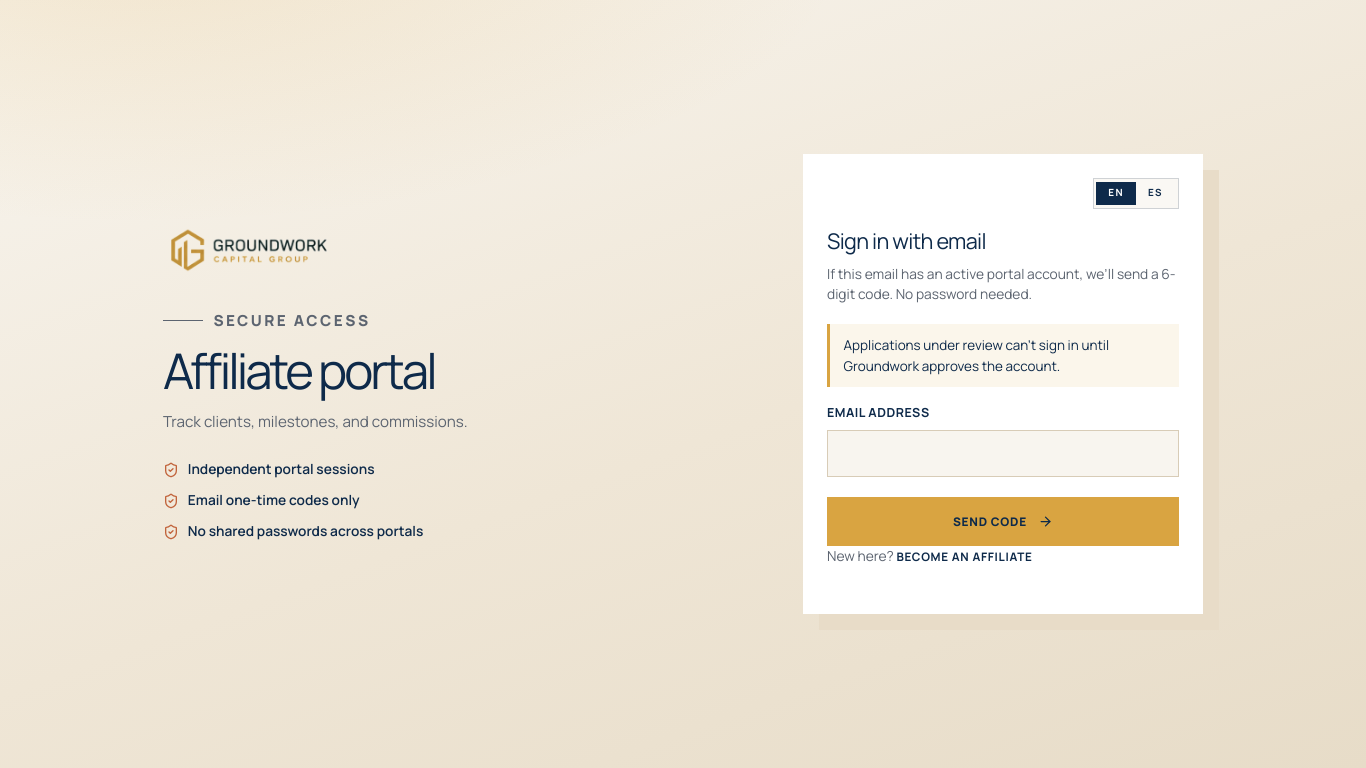
Test: PortalLoginPage › keeps verify disabled until six digits, then rejects a wrong code
Type "pat@example.com" into the field labelled "Email address" at (1003, 453), box [827, 430, 1179, 477]
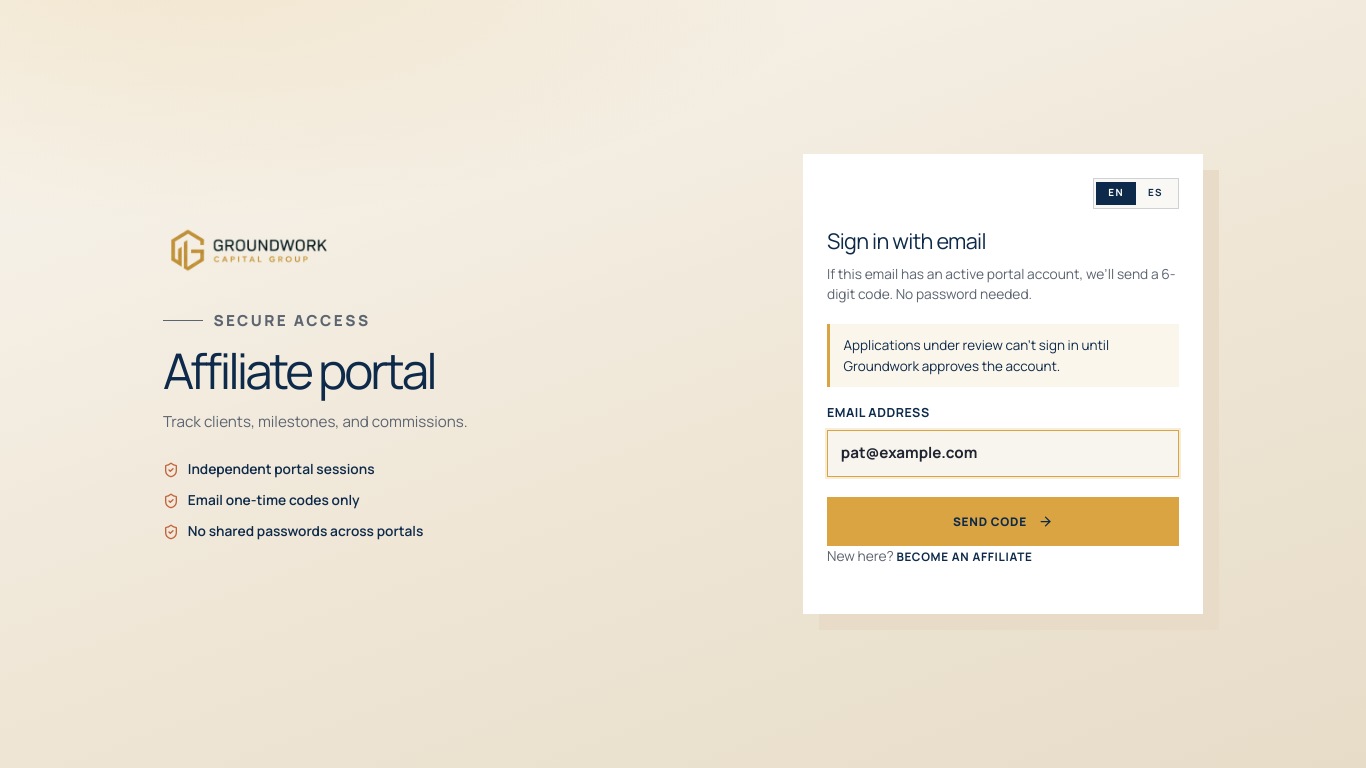
Click the button "Send code" at (1003, 522), box [827, 497, 1179, 546]
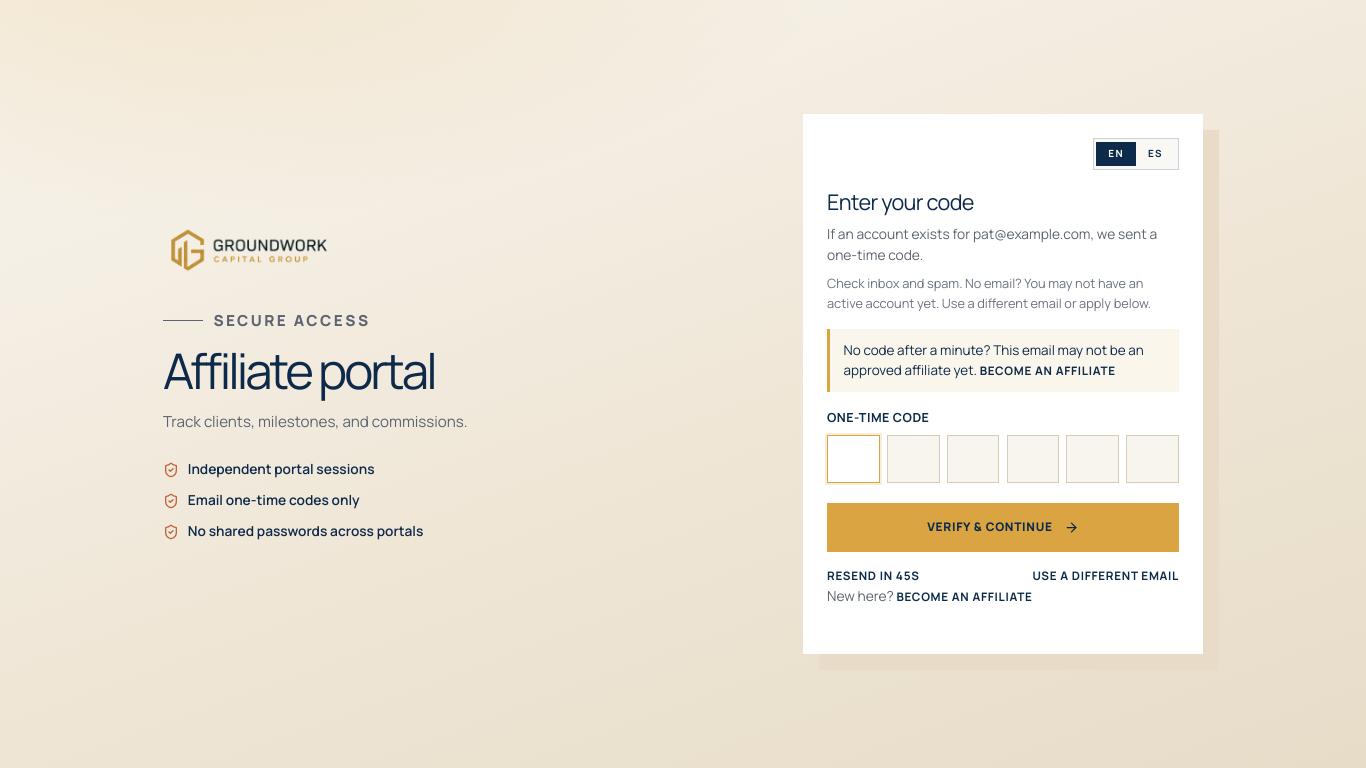
Expected: the heading "Enter your code" is shown, [827, 187, 974, 216]
Type "12ab" into the field named "Digit 1 of 6" at (853, 459), box [827, 435, 880, 483]
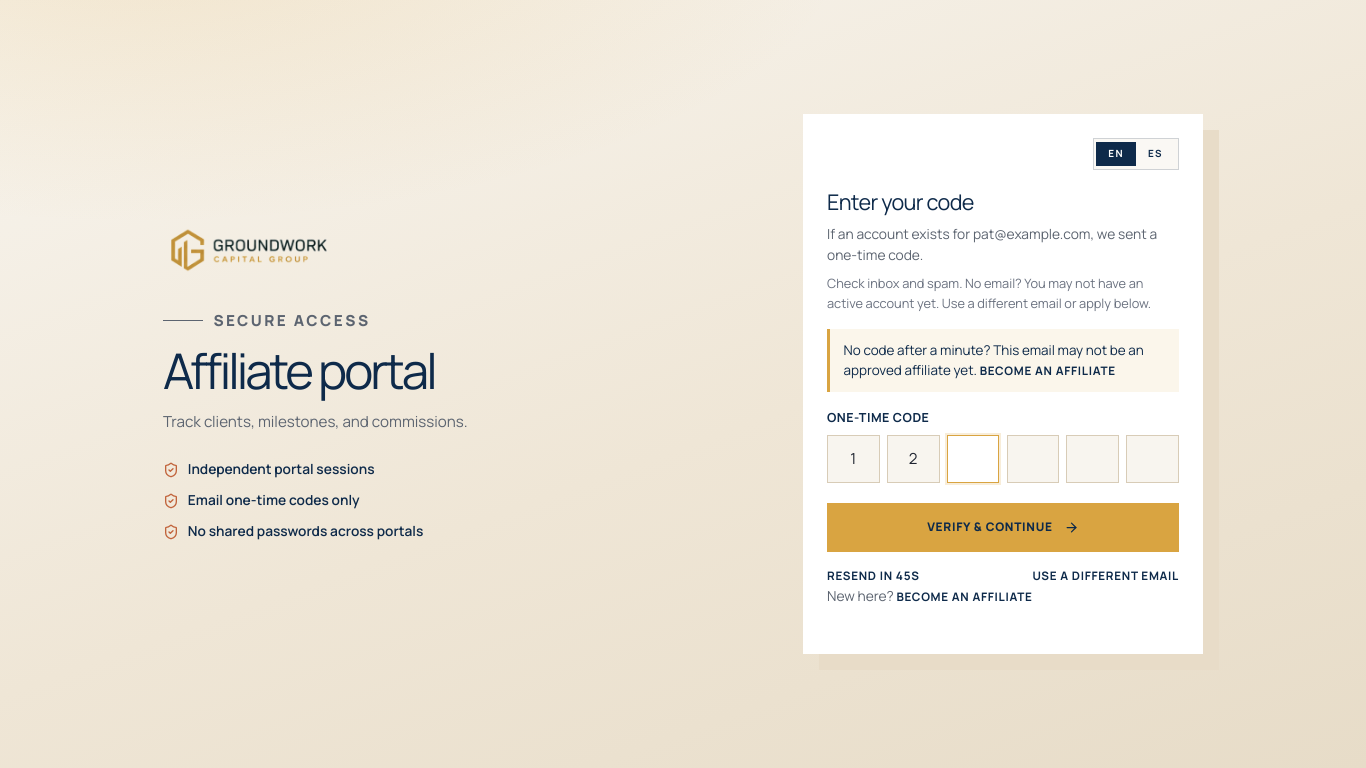
Expected: the button "Verify & continue" is disabled, [827, 502, 1179, 552]
Clear the field named "Digit 1 of 6" at (853, 459), box [827, 435, 880, 483]
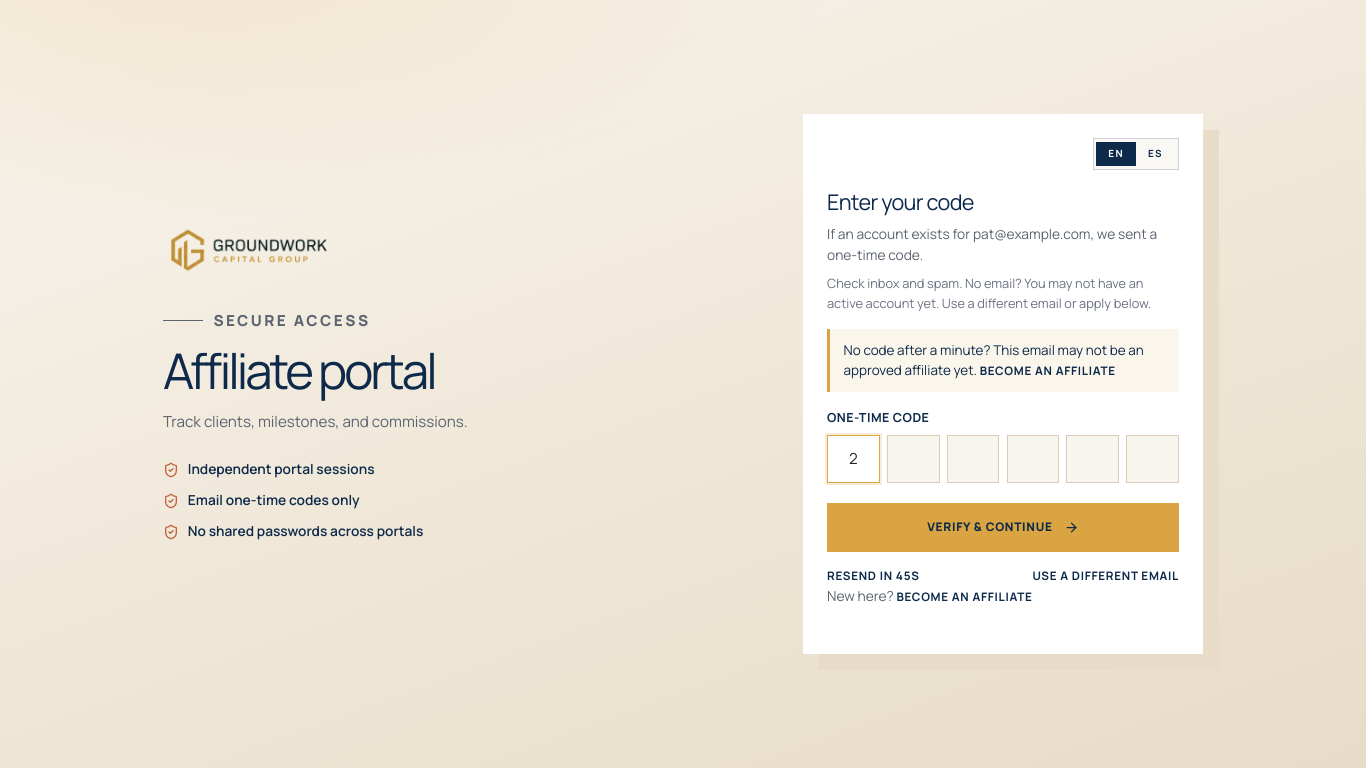
Clear the field named "Digit 2 of 6" at (913, 459), box [887, 435, 940, 483]
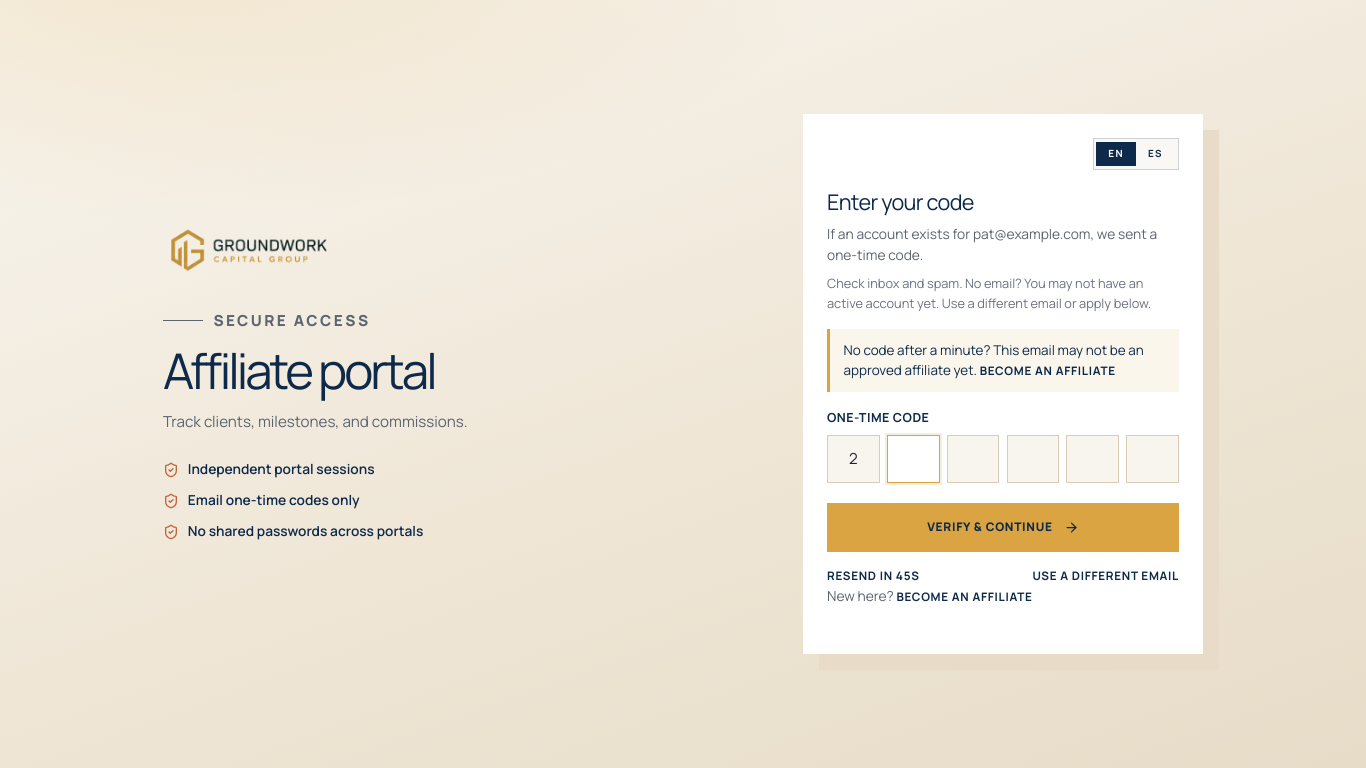
Type "123456" into the field named "Digit 1 of 6" at (853, 459), box [827, 435, 880, 483]
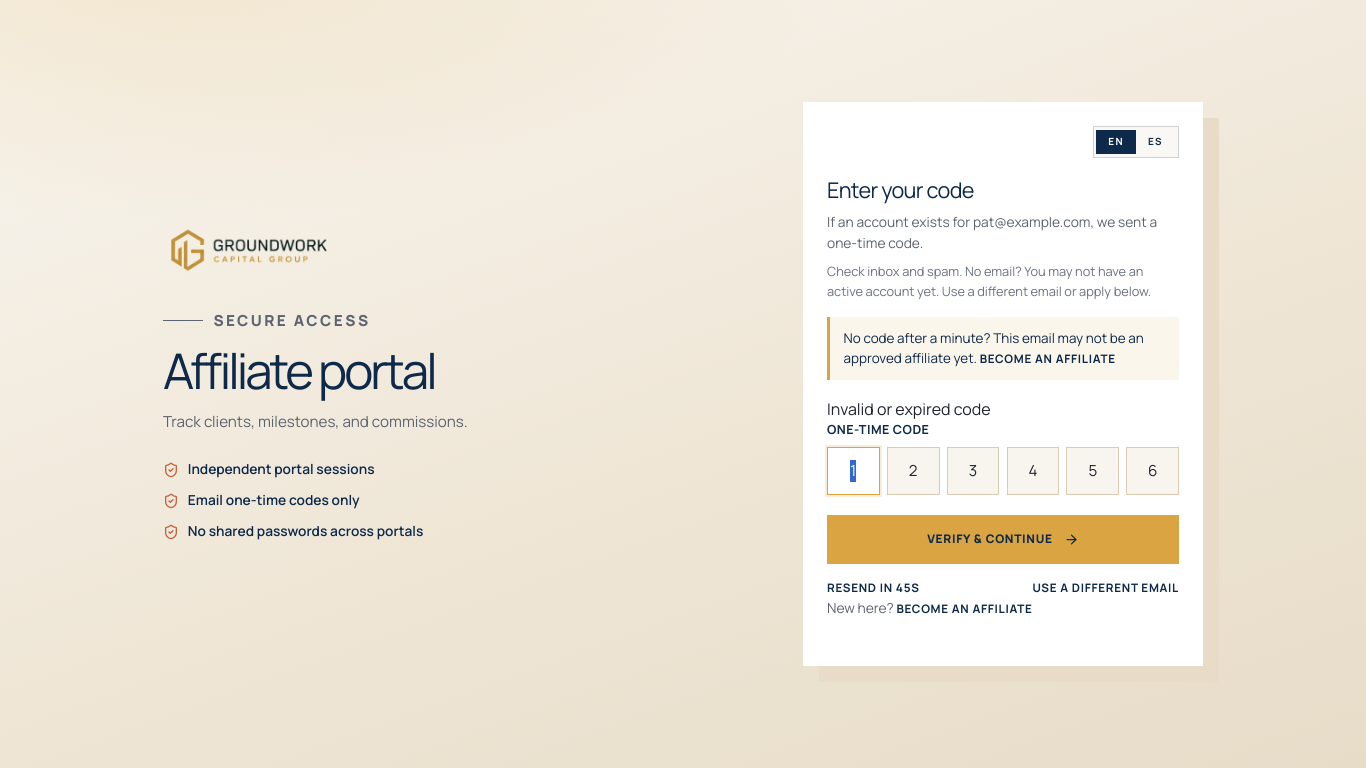
Expected: the message reads "Invalid or expired code", [827, 398, 991, 420]
